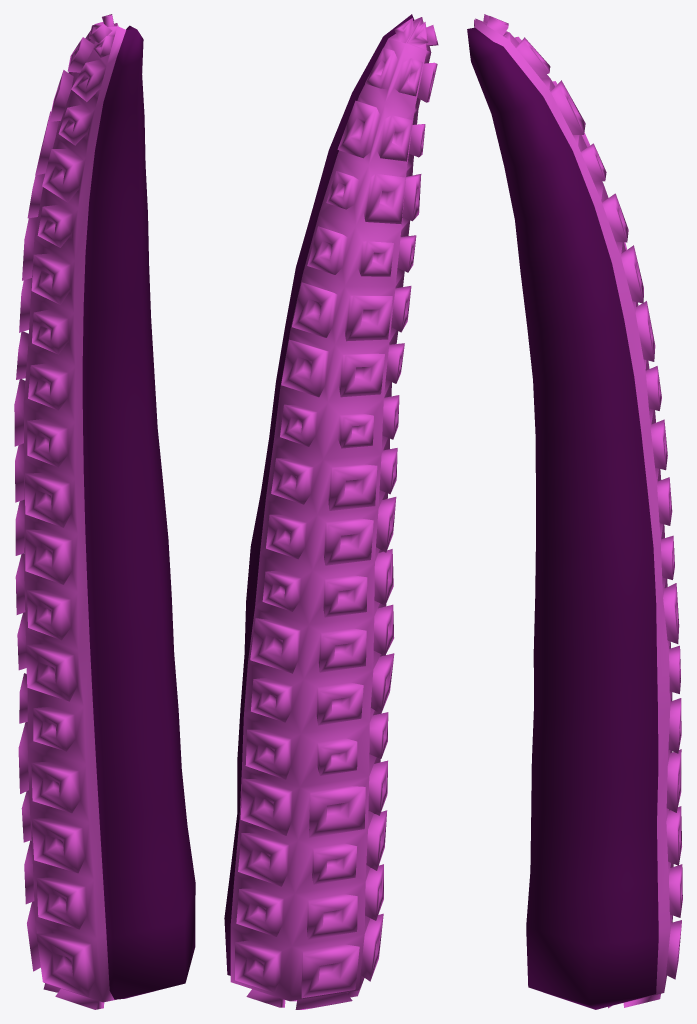
File: tentacule2.fbx
3 views of the same model, side by side, from view 1: azimuth 30°, elevation 25°; view 2: azimuth 150°, elevation 25°; view 3: azimuth 270°, elevation 25° (orthographic). The views are drawn at different scales.
Parts seen in each view (by area): view 1: tentacule3; view 2: tentacule3; view 3: tentacule3.
Part boxes in pixels (<box>): tentacule3: <box>14,14,195,1009</box>; tentacule3: <box>224,14,438,1009</box>; tentacule3: <box>467,14,682,1009</box>.
Bounding box in the file's own units: 37.65 × 218 × 44.13.
